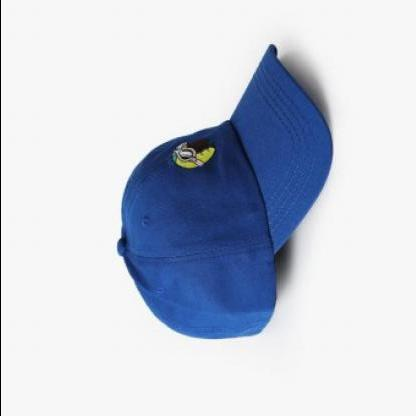cap: (110, 34, 335, 346)
